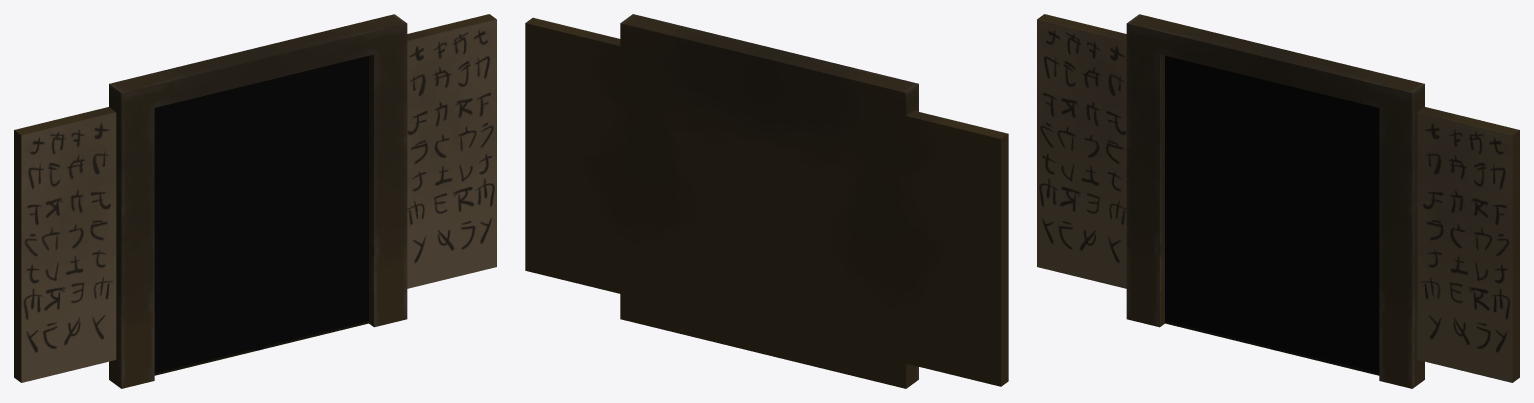
File: Kapı.fbx
3 renders of one model, left to right at view 1: azimuth 30°, elevation 25°; view 2: azimuth 150°, elevation 25°; view 3: azimuth 330°, elevation 25°, orthographic.
Parts seen in each view (by area): view 1: KAPI; view 2: KAPI; view 3: KAPI.
Part boxes in pixels (x1=…): KAPI: x1=14, y1=14, x2=496, y2=388; KAPI: x1=525, y1=14, x2=1008, y2=388; KAPI: x1=1037, y1=14, x2=1519, y2=388.
Size of the model in its own units: 531 by 315 by 24.41.
1 material, 1 textured.
